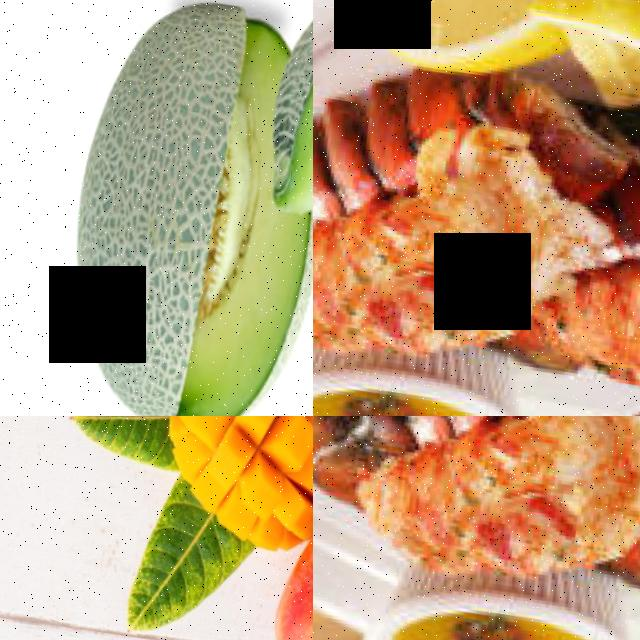lemon: (349, 0, 559, 96), (528, 0, 640, 132)
lobster tails: (313, 38, 582, 383), (313, 416, 640, 604), (552, 90, 640, 416)
melon: (18, 0, 310, 416)
